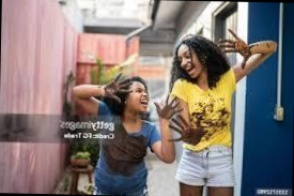earth: (105, 144, 147, 170), (208, 103, 230, 131)
